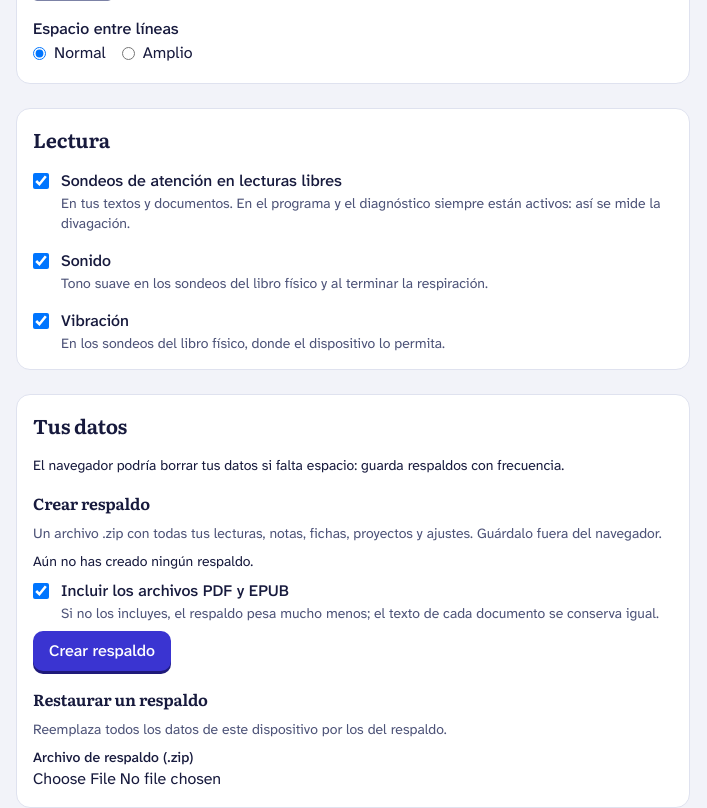
Test: SettingsPage › crear un respaldo descarga el ZIP y muestra la fecha del último
(page scrolled)
Expected: the text "Aún no has creado ningún respaldo." is shown, [33,552,253,570]
Click the button "Crear respaldo": [102, 650] box [33,630,171,670]
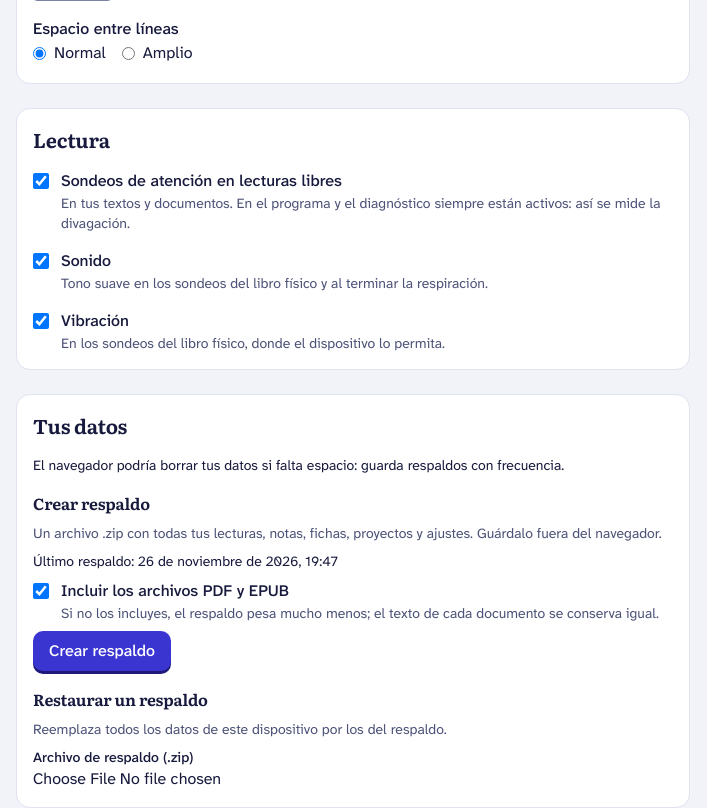
Now the text "Aún no has creado ningún respaldo." is gone
